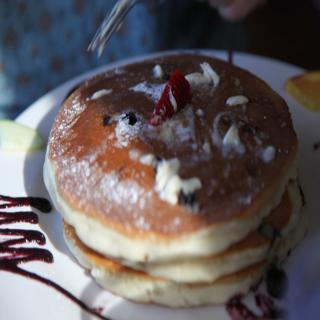Pancake: (41, 55, 298, 256)
